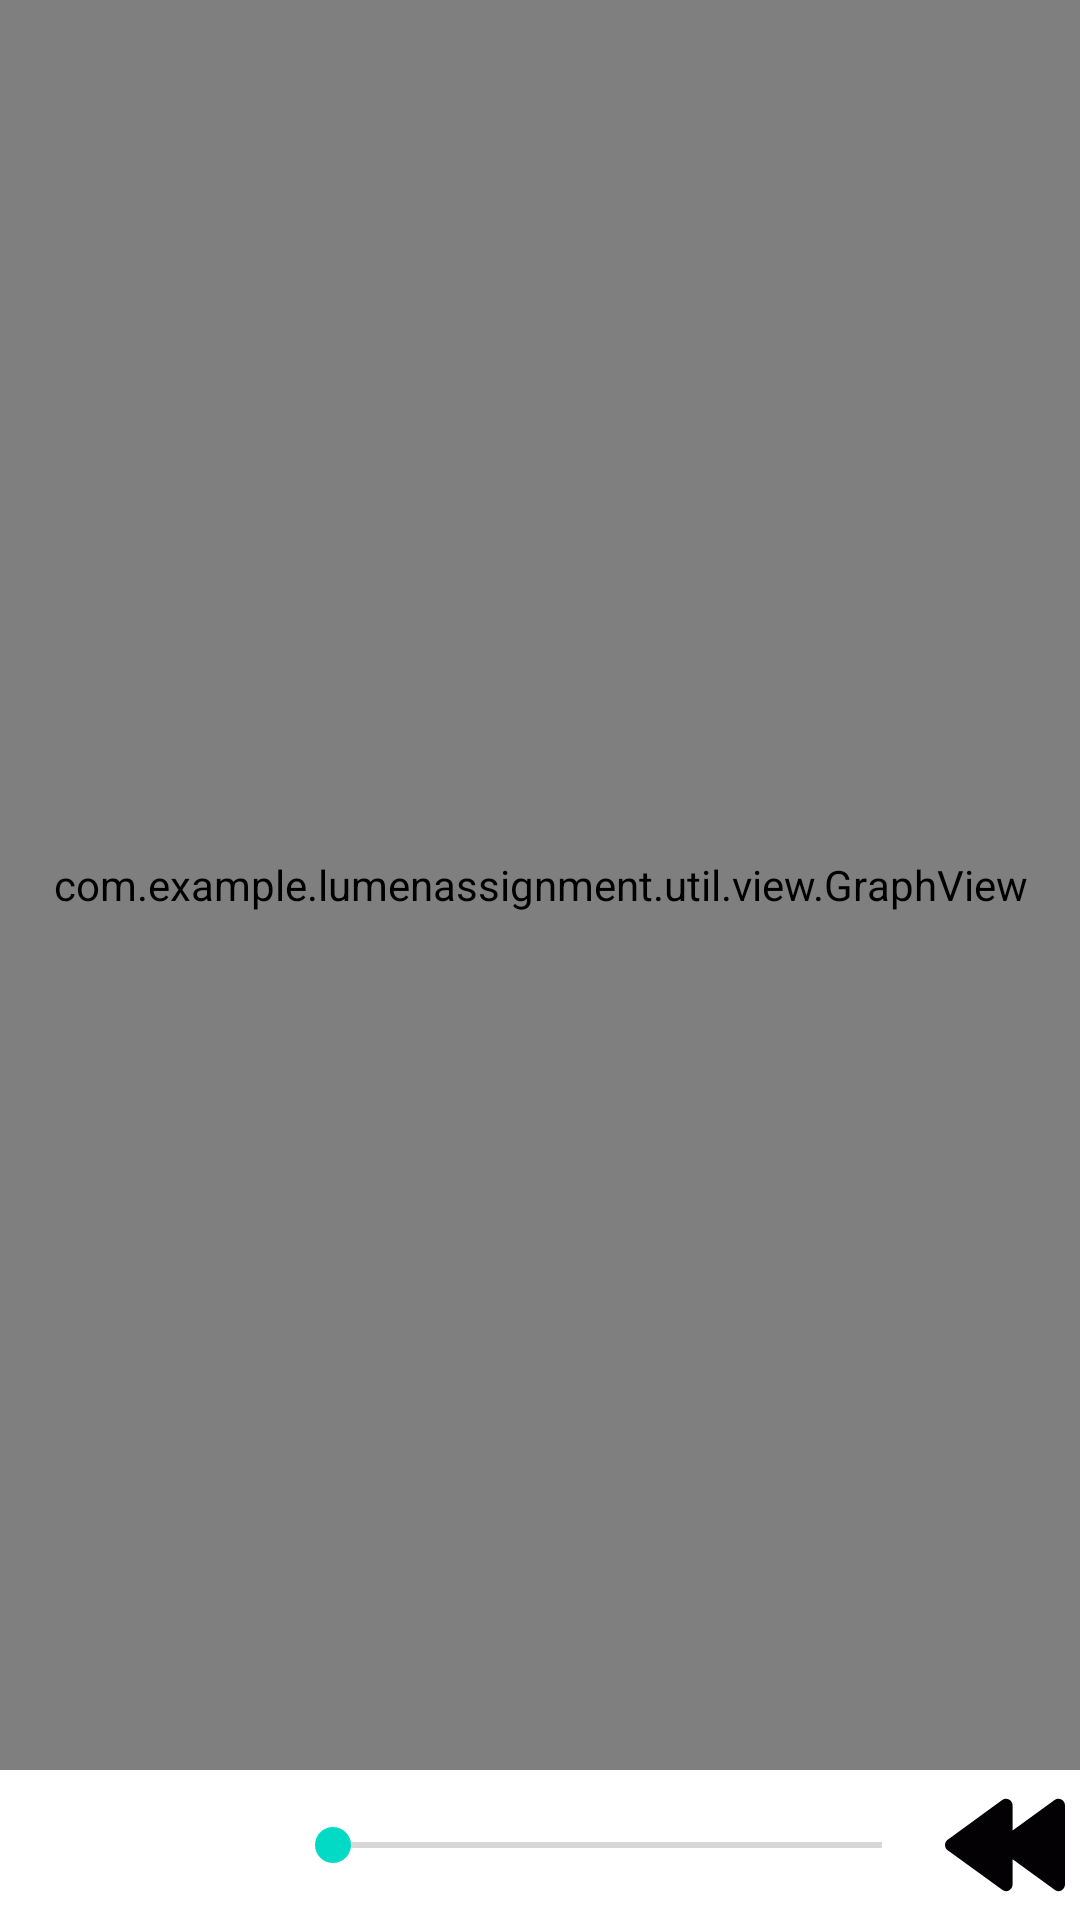

Icon bounding boxes for this 1080 x 1920 phone screenshot, format (x1, y1, x2, y2):
rewind: (945, 1798, 1065, 1892)
